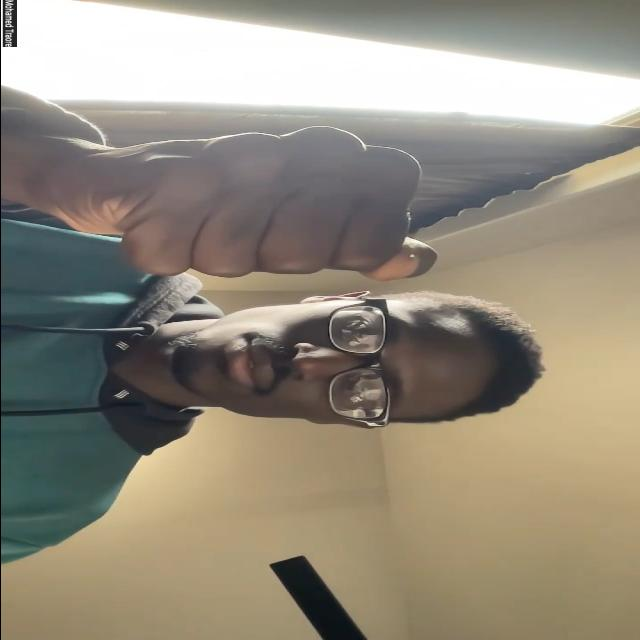Rock: (34, 125, 438, 281)
